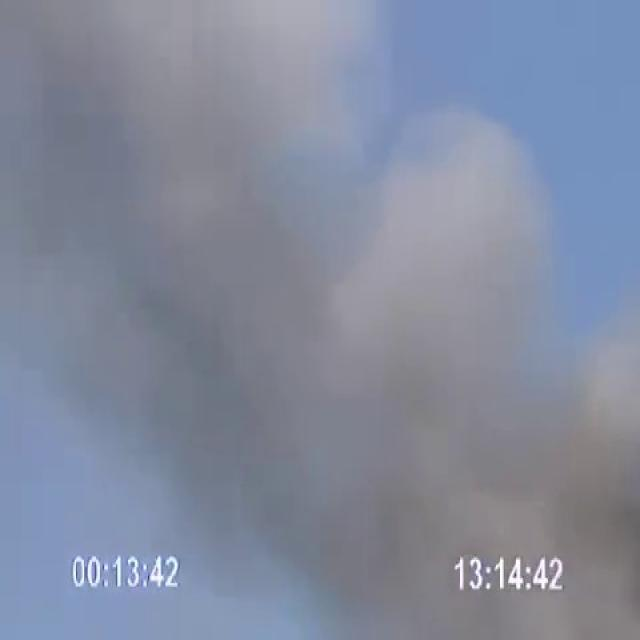Smoke: (10, 3, 638, 640)
